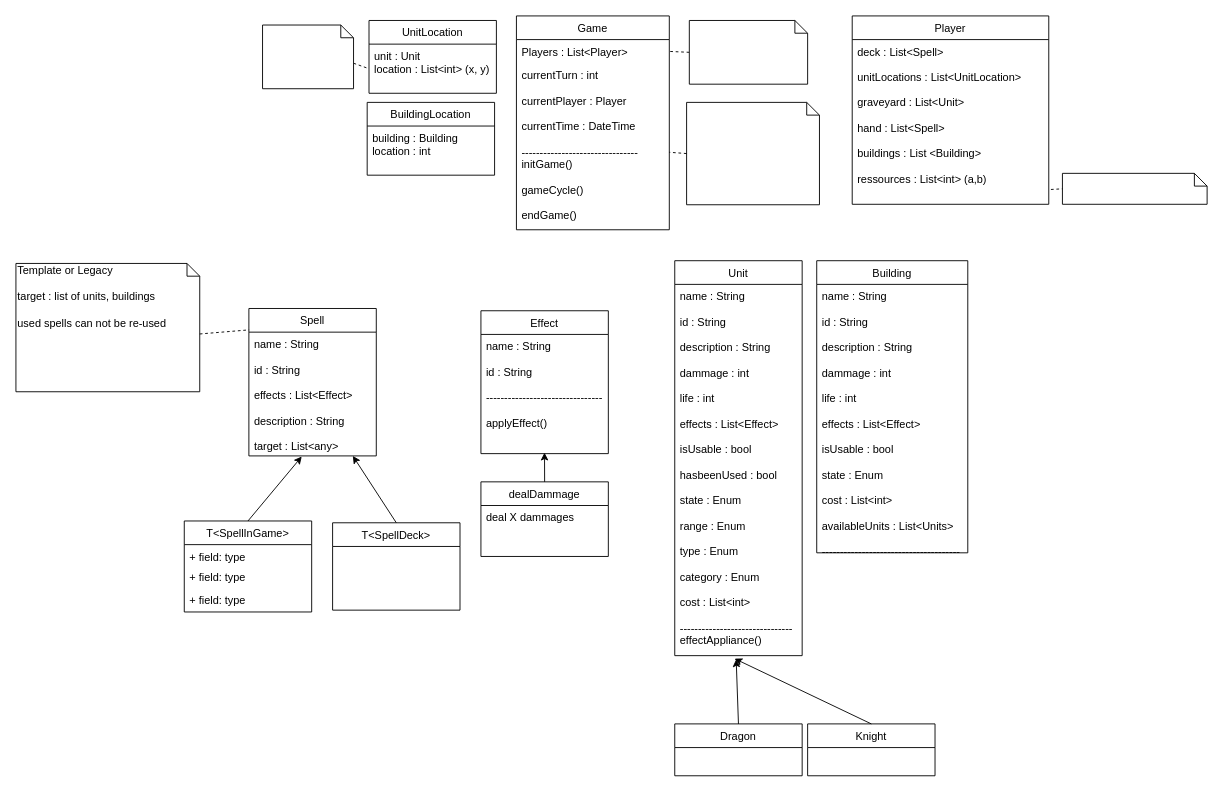
The diagram is 1223 pixels wide and 792 high, and some of its shapes have lost their labels. Each missing label, with the centre of its shape:
"a -> common ressource b -> rare ressource" goes at [1134,188].
"gameCycle -> while 2 players endGame -> give ressources, clean boards" goes at [752,153].
"If there is only one player -> end game (deconnection," goes at [748,52].
"Position of field" goes at [308,56].
